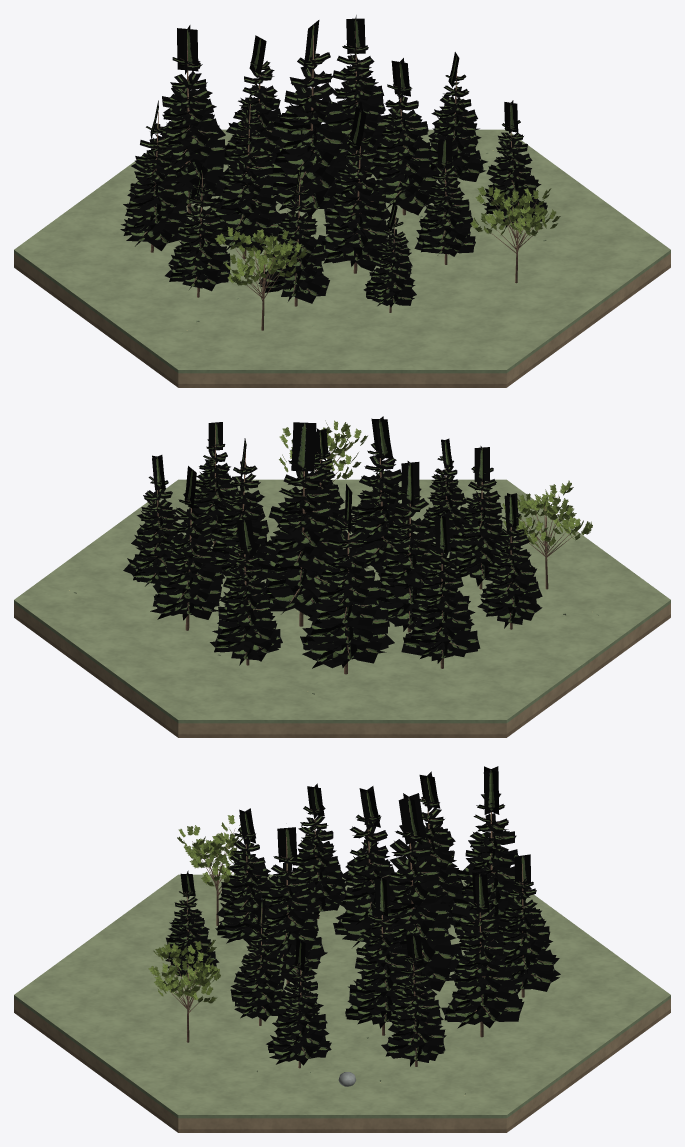
File: bosque.glb
3 views of the same model, one above another, from view 1: azimuth 30°, elevation 25°; view 2: azimuth 150°, elevation 25°; view 3: azimuth 270°, elevation 25° (orthographic).
Parts seen in each view (by area): view 1: bosque.010 / 0, bosque.010 / 5, bosque.010 / 6, bosque.010 / 1; view 2: bosque.010 / 0, bosque.010 / 5, bosque.010 / 6, bosque.010 / 1; view 3: bosque.010 / 0, bosque.010 / 5, bosque.010 / 6, bosque.010 / 1.
Boxes of the visible parts, <box> form: bosque.010 / 0: <box>14,129,670,387</box>; bosque.010 / 5: <box>120,15,547,307</box>; bosque.010 / 6: <box>214,186,560,285</box>; bosque.010 / 1: <box>143,31,543,330</box>; bosque.010 / 0: <box>14,479,670,737</box>; bosque.010 / 5: <box>123,416,542,668</box>; bosque.010 / 6: <box>279,420,592,547</box>; bosque.010 / 1: <box>151,429,578,674</box>; bosque.010 / 0: <box>14,874,670,1132</box>; bosque.010 / 5: <box>165,766,560,1066</box>; bosque.010 / 6: <box>148,815,242,1003</box>; bosque.010 / 1: <box>165,798,548,1068</box>.
Bounding box in the file's own units: 3.46 × 1.48 × 4.
Materials: 5 (5 with a texture image).
